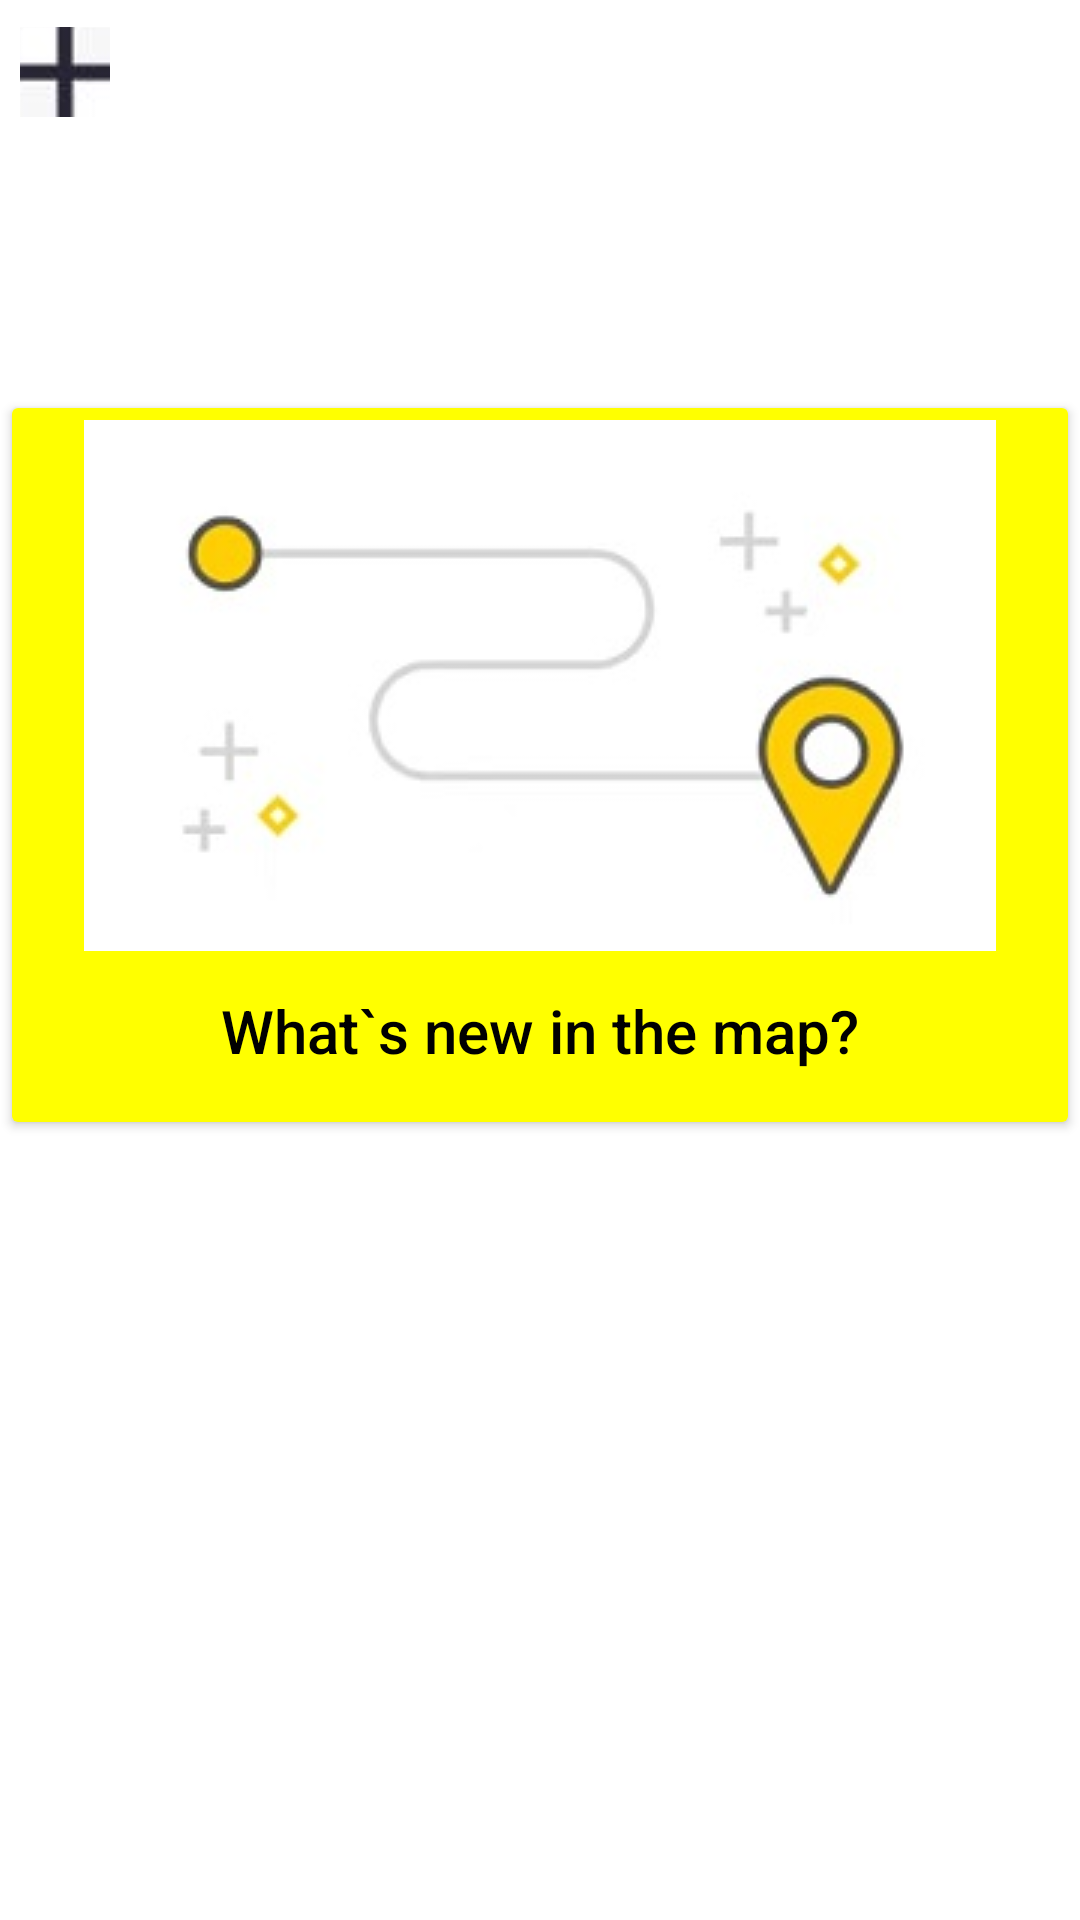

Named icons in this screenshot (1080px x 1920px) and their bounding boxes, (x1, y1, x2, y2):
plus: (20, 27, 110, 117)
